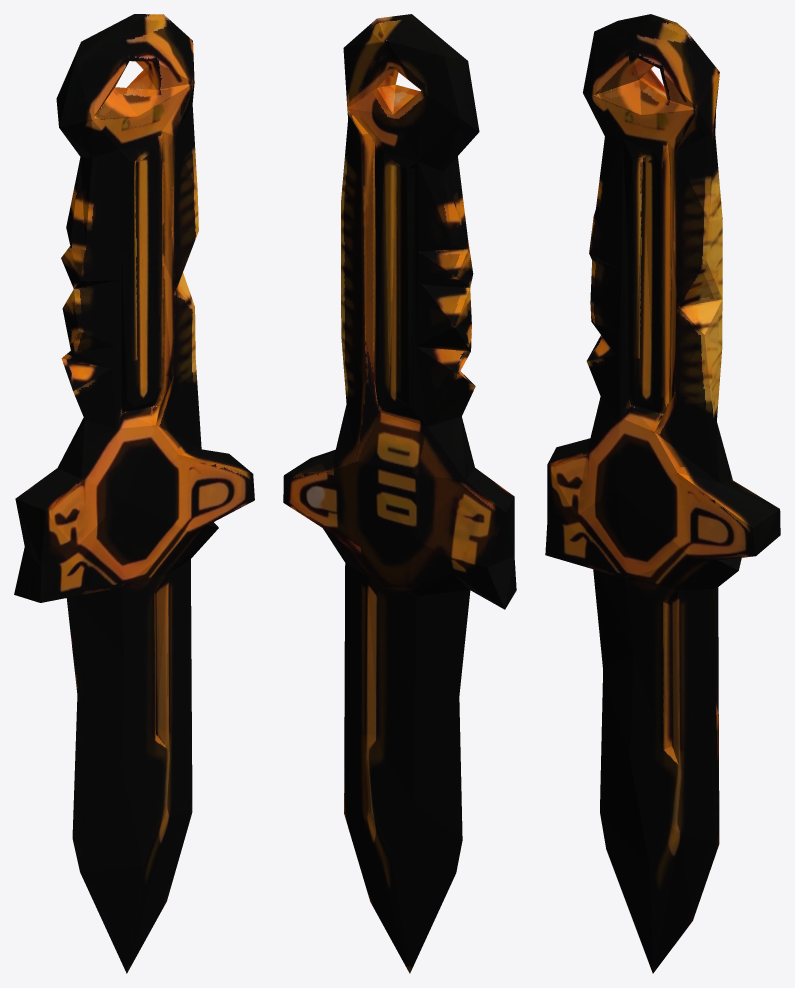
The model's file is fantasy_short_sword_2.glb.
3 renders of one model, left to right at view 1: azimuth 30°, elevation 25°; view 2: azimuth 150°, elevation 25°; view 3: azimuth 330°, elevation 25°, orthographic.
Parts seen in each view (by area): view 1: TexturedMesh_.obj; view 2: TexturedMesh_.obj; view 3: TexturedMesh_.obj.
Boxes of the visible parts, x1=… form: TexturedMesh_.obj: x1=14, y1=14, x2=254, y2=973; TexturedMesh_.obj: x1=283, y1=14, x2=516, y2=973; TexturedMesh_.obj: x1=545, y1=14, x2=780, y2=973.
Bounding box in the file's own units: 0.4745 × 1.99 × 0.118.
1 material, 1 textured.
